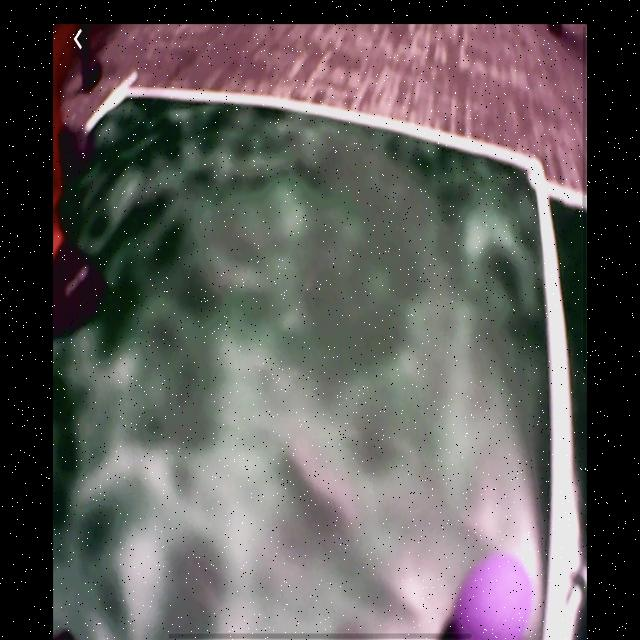ball: (449, 552, 536, 639)
